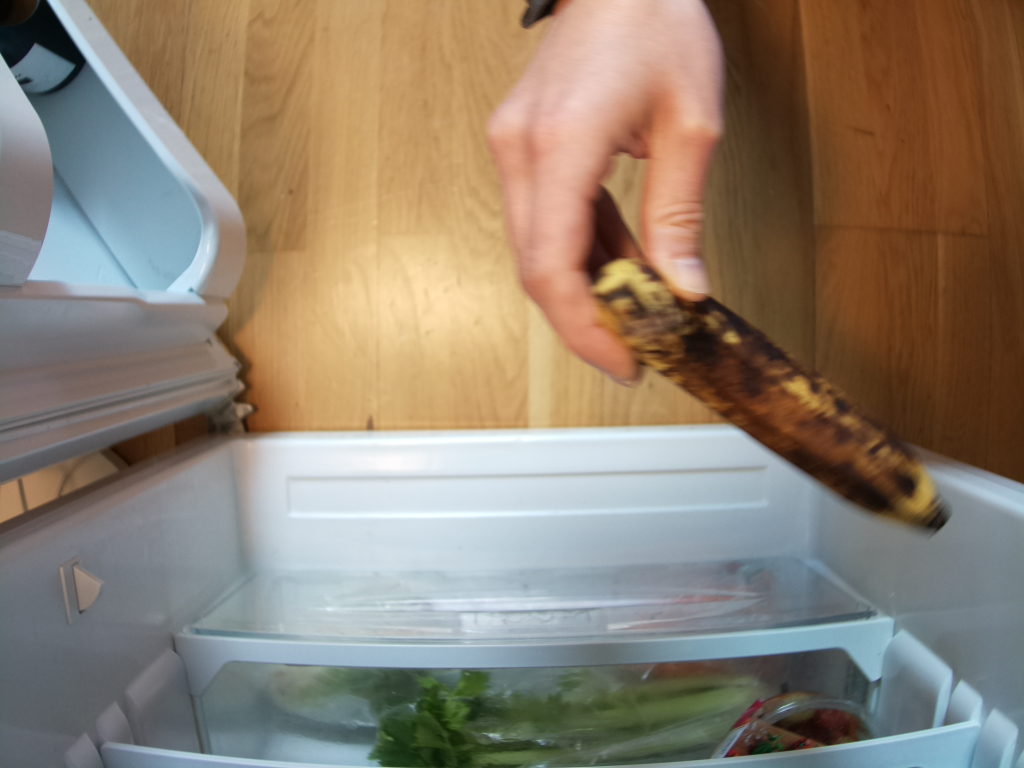banana-overripe: (591, 259, 947, 533)
